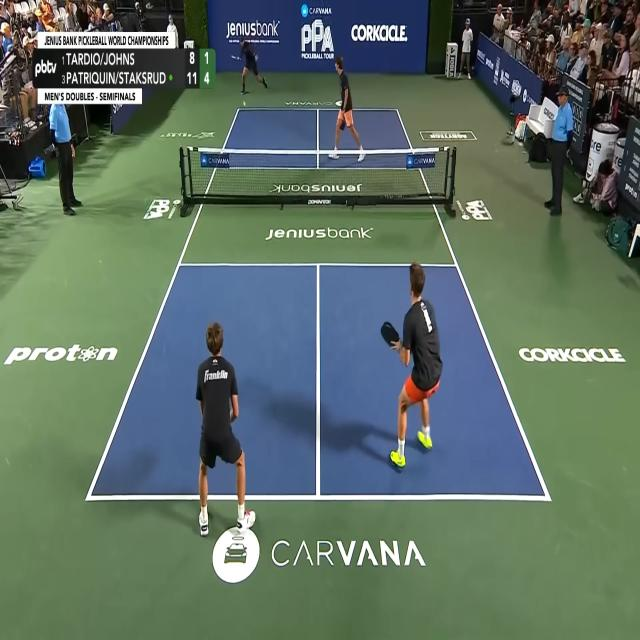ball: (242, 99, 246, 108)
